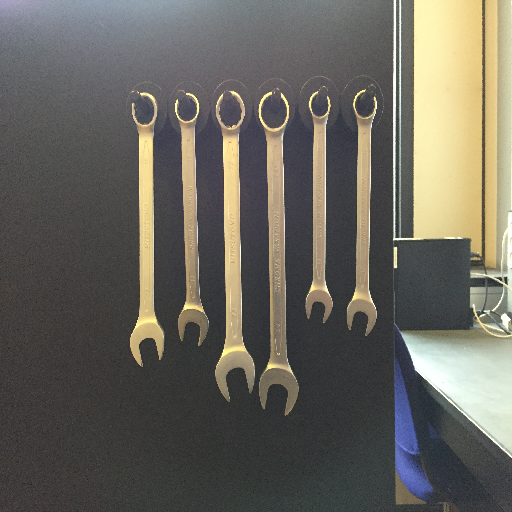bottom: (256, 360, 301, 418), (214, 345, 256, 406), (124, 320, 167, 372), (173, 304, 211, 347), (345, 295, 378, 338), (304, 287, 337, 327)
top: (256, 89, 294, 136), (213, 88, 246, 135), (126, 90, 160, 127), (351, 86, 380, 123), (304, 87, 335, 121), (173, 91, 202, 126)
